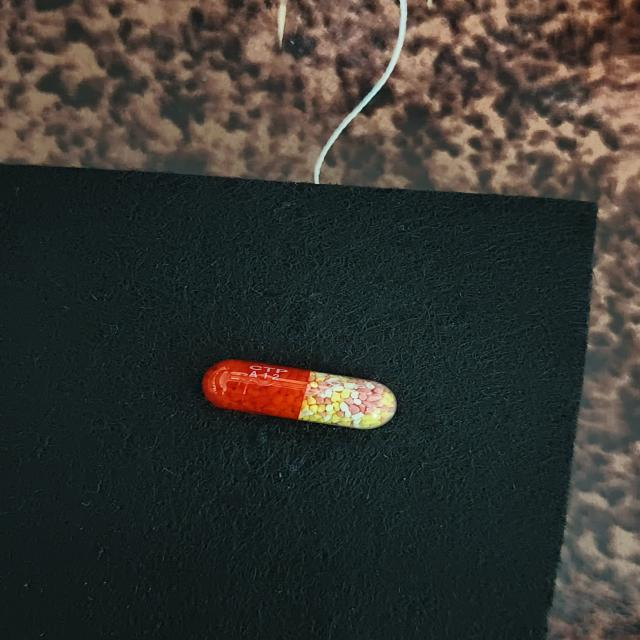Intact Capsule: (202, 359, 397, 429)
